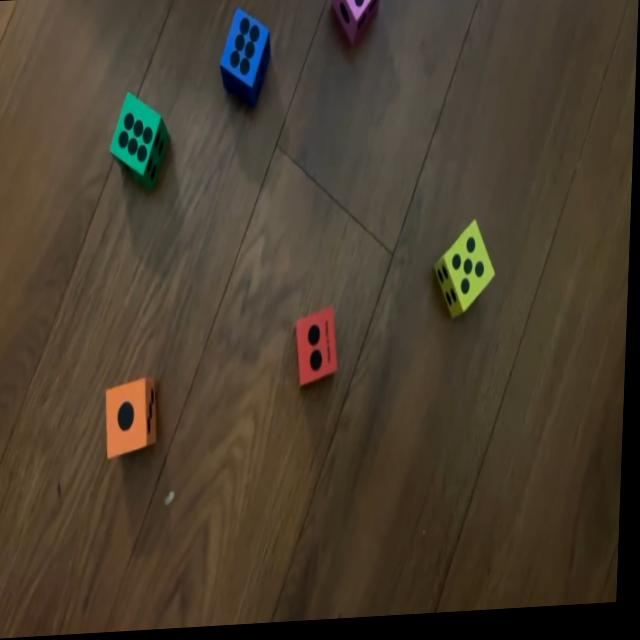cube: (110, 88, 173, 195), (219, 9, 272, 108), (295, 309, 343, 391)
